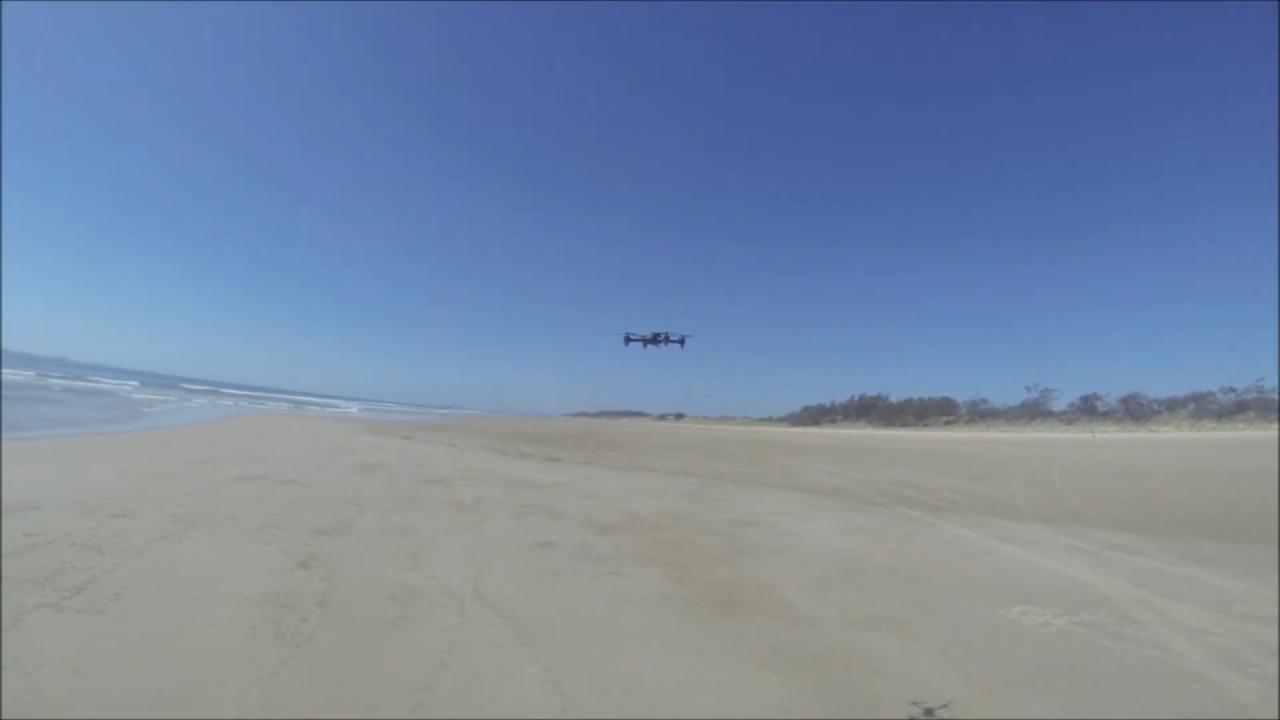Drone: (606, 318, 703, 360)
